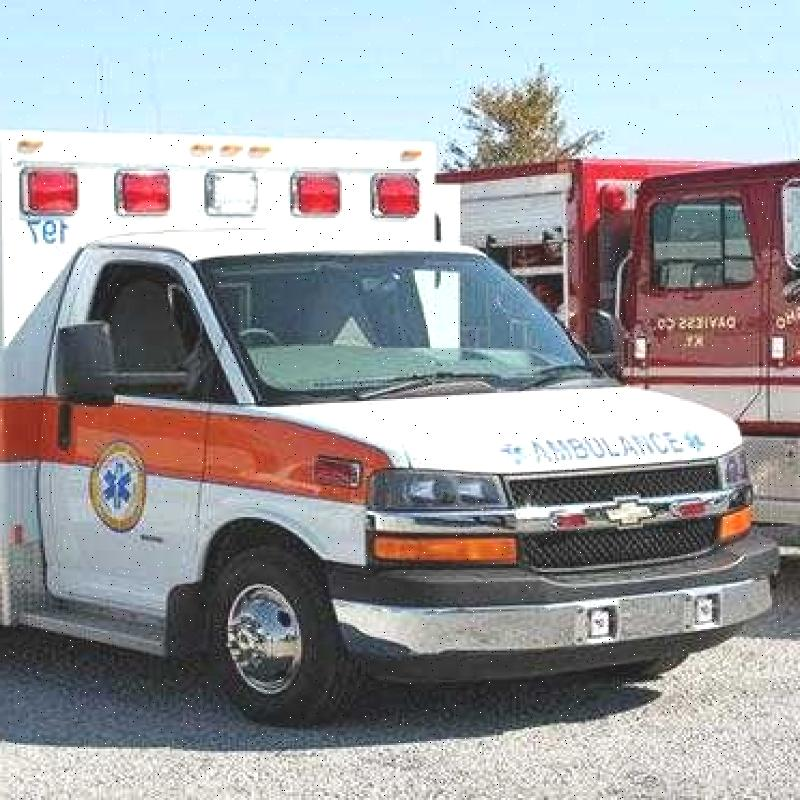AmbulanceSiren: (6, 163, 434, 242)
